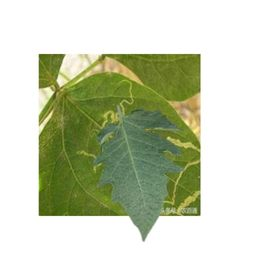liriomyza: (165, 134, 201, 215), (120, 78, 134, 117), (98, 109, 119, 129), (75, 149, 97, 157), (93, 161, 103, 173)
